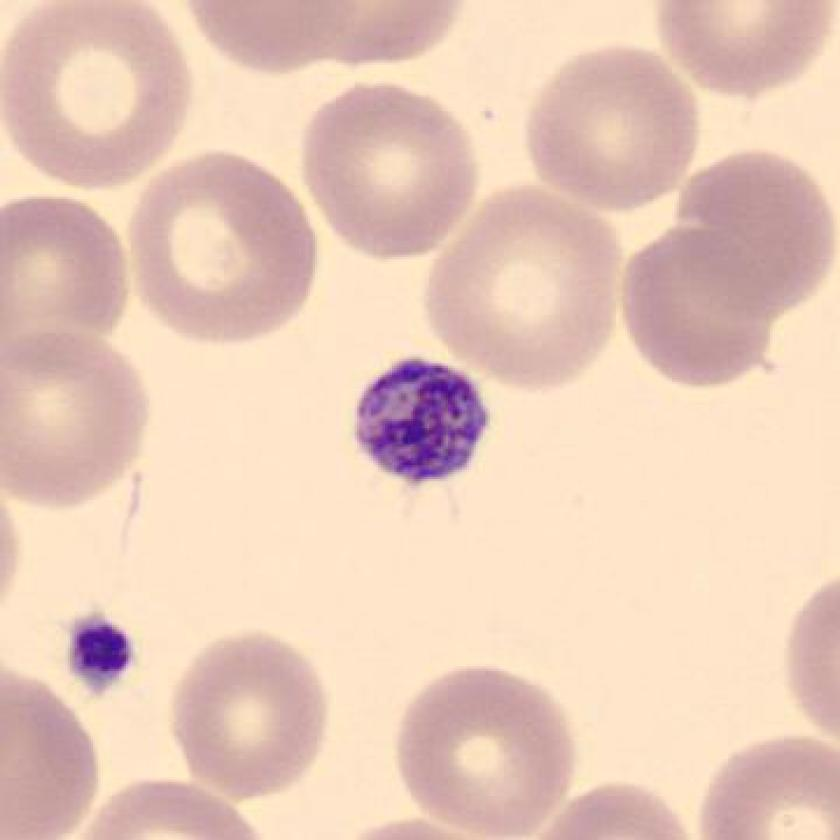platelets: (346, 351, 503, 497), (55, 600, 143, 714)
